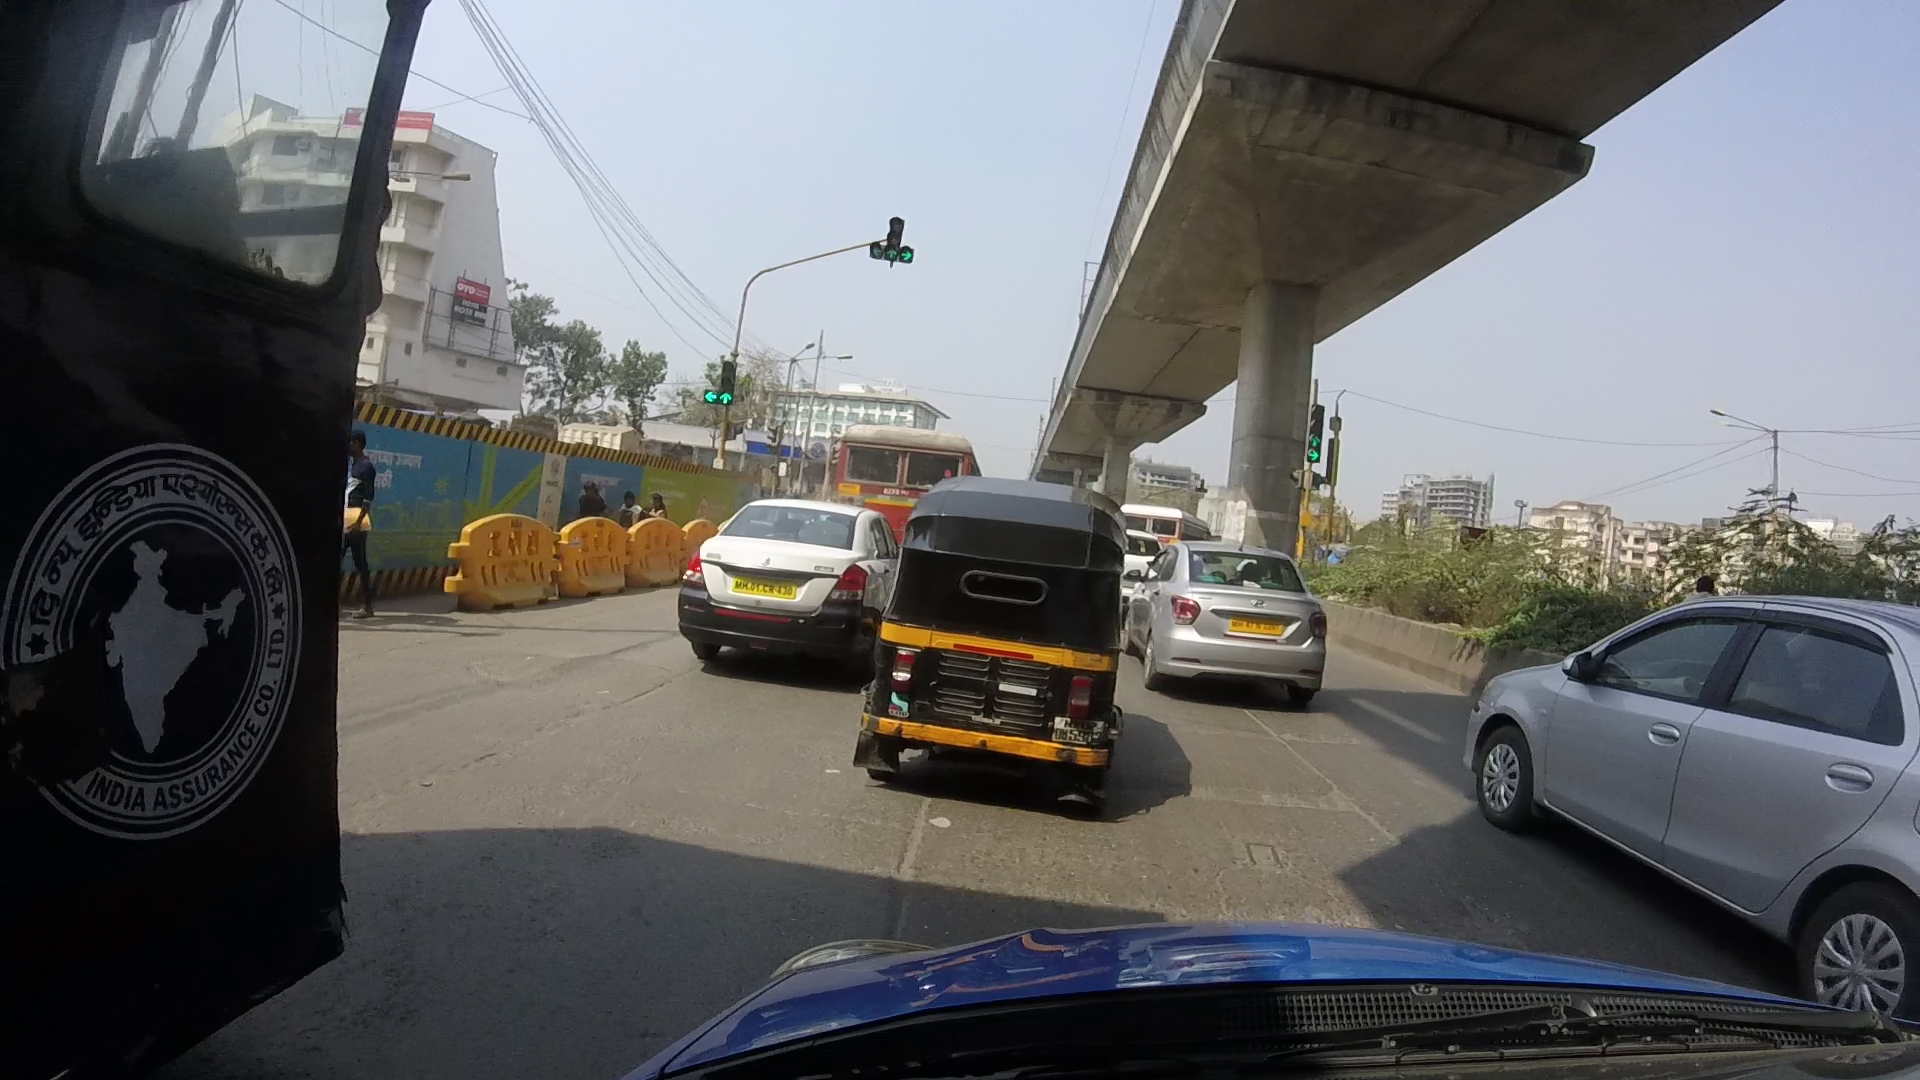car: (1462, 583, 1920, 1002), (690, 477, 890, 657), (1143, 545, 1331, 704)
rickshaw: (862, 469, 1131, 789)
